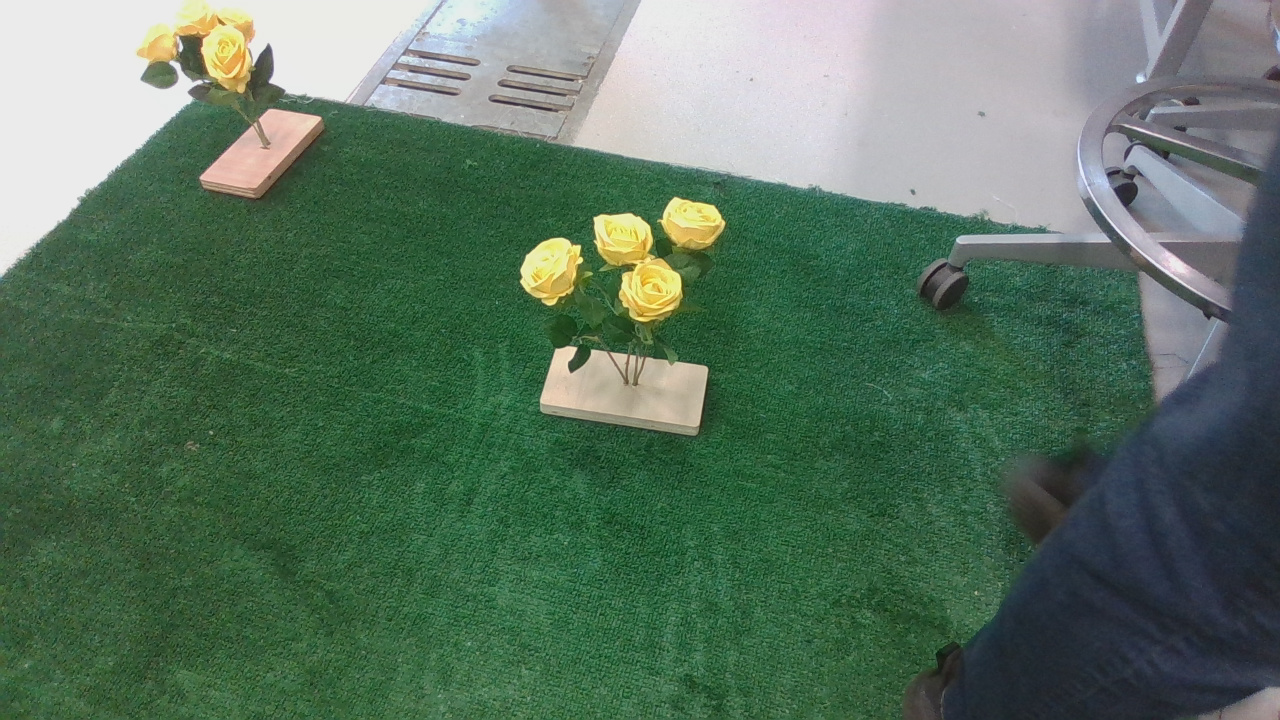rose: (513, 197, 738, 394)
